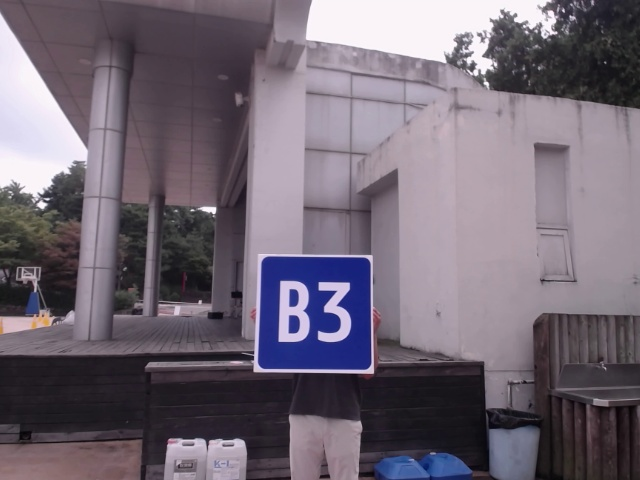delivery_b3: (259, 255, 373, 372)
